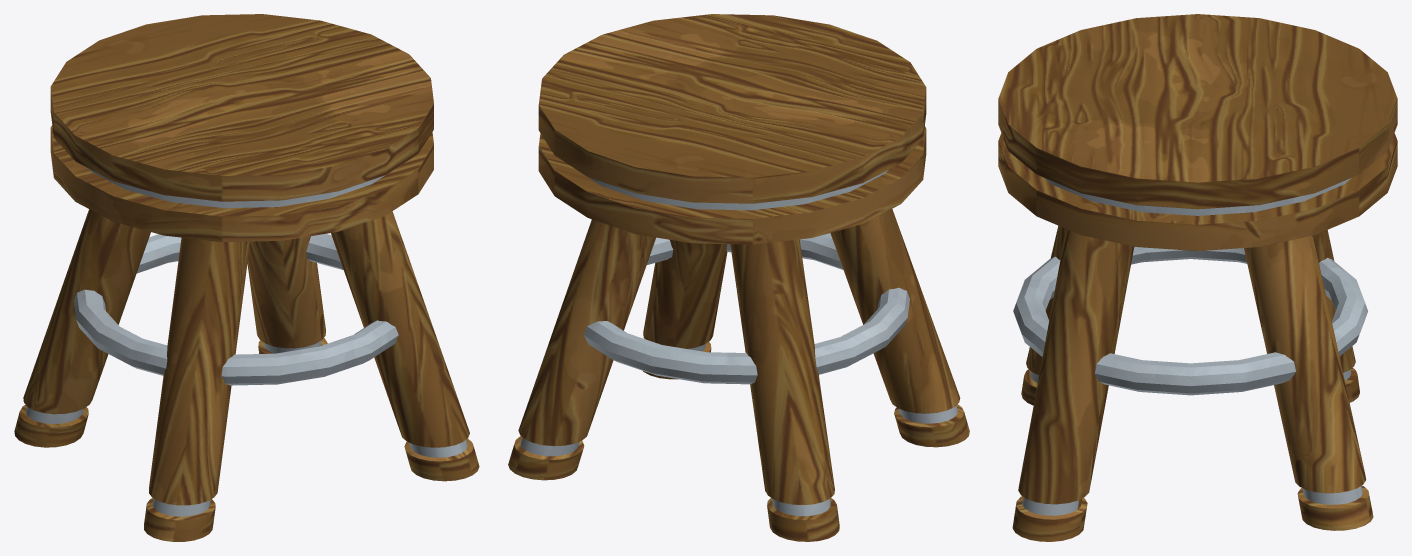
File: PR_Stool_T.fbx
3 renders of one model, left to right at view 1: azimuth 30°, elevation 25°; view 2: azimuth 150°, elevation 25°; view 3: azimuth 270°, elevation 25°, orthographic. The views are drawn at different scales.
Visible parts, largest first — view 1: PR_Stool:pCylinder9; view 2: PR_Stool:pCylinder9; view 3: PR_Stool:pCylinder9.
Part boxes in pixels (x1,y1,x2,y2): PR_Stool:pCylinder9: [14, 14, 479, 541]; PR_Stool:pCylinder9: [508, 14, 969, 541]; PR_Stool:pCylinder9: [998, 14, 1397, 541].
Bounding box in the file's own units: 1.16 × 1.16 × 1.16.
